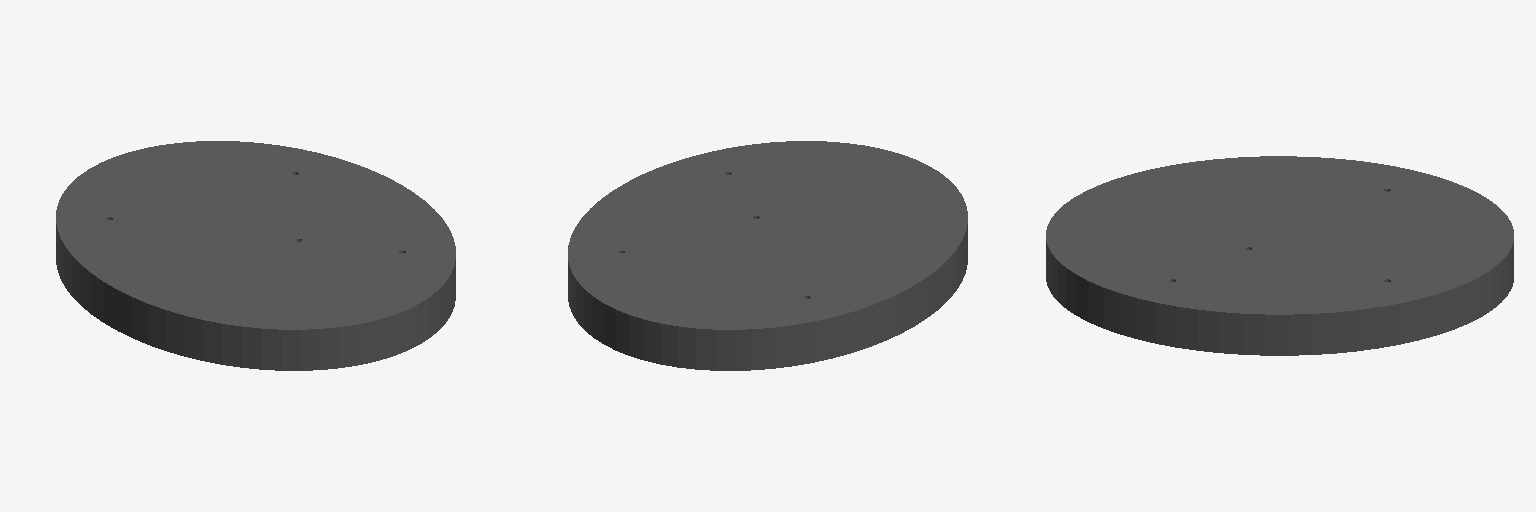
File: ellip2.obj
3 views of the same model, side by side, from view 1: azimuth 30°, elevation 25°; view 2: azimuth 150°, elevation 25°; view 3: azimuth 270°, elevation 25° (orthographic).
Visible parts, largest first — view 1: StainlessSteel_ellip2; view 2: StainlessSteel_ellip2; view 3: StainlessSteel_ellip2.
Part boxes in pixels (x1,y1,x2,y2): StainlessSteel_ellip2: (56,141,455,370); StainlessSteel_ellip2: (568,141,967,370); StainlessSteel_ellip2: (1046,156,1513,355).
Size of the model in its own units: 0.1048 by 0.0127 by 0.131.